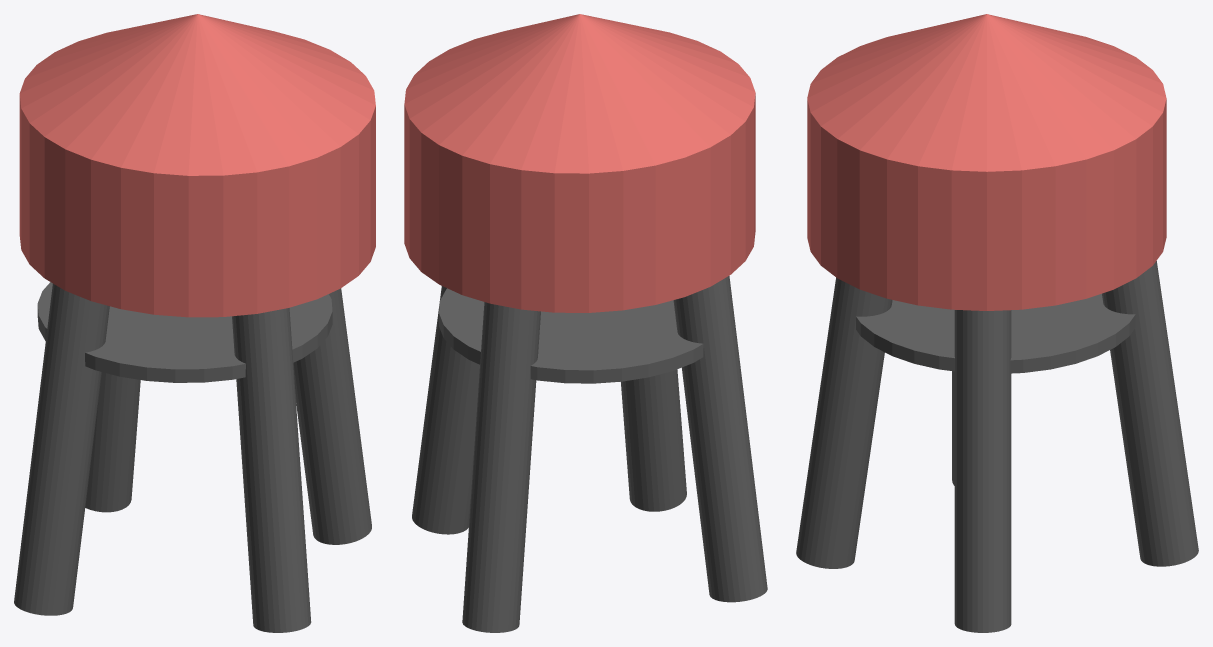
The model's file is watertower2.fbx.
The picture shows the model from 3 angles, left to right: view 1: azimuth 30°, elevation 25°; view 2: azimuth 150°, elevation 25°; view 3: azimuth 270°, elevation 25°; orthographic projection.
Visible parts, largest first — view 1: Cylinder, Cylinder.004, Cylinder.001, Cylinder.003, Cylinder.005, Cylinder.002; view 2: Cylinder, Cylinder.002, Cylinder.004, Cylinder.005, Cylinder.003, Cylinder.001; view 3: Cylinder, Cylinder.003, Cylinder.002, Cylinder.001, Cylinder.005.
Boxes of the visible parts, <box> form: Cylinder: <box>19,14,375,317</box>; Cylinder.004: <box>14,283,109,615</box>; Cylinder.001: <box>232,308,311,632</box>; Cylinder.003: <box>293,288,371,544</box>; Cylinder.005: <box>37,282,332,382</box>; Cylinder.002: <box>85,372,140,512</box>; Cylinder: <box>404,14,755,312</box>; Cylinder.002: <box>462,302,540,632</box>; Cylinder.004: <box>673,276,767,602</box>; Cylinder.005: <box>439,288,703,383</box>; Cylinder.003: <box>412,286,479,534</box>; Cylinder.001: <box>621,369,686,511</box>; Cylinder: <box>807,14,1166,310</box>; Cylinder.003: <box>954,310,1011,632</box>; Cylinder.002: <box>1102,261,1198,566</box>; Cylinder.001: <box>796,277,892,568</box>; Cylinder.005: <box>856,293,1135,373</box>.
Bounding box in the file's own units: 395 × 593 × 397.
